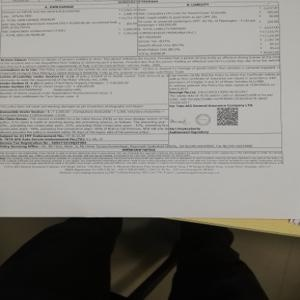table: (1, 1, 281, 55)
